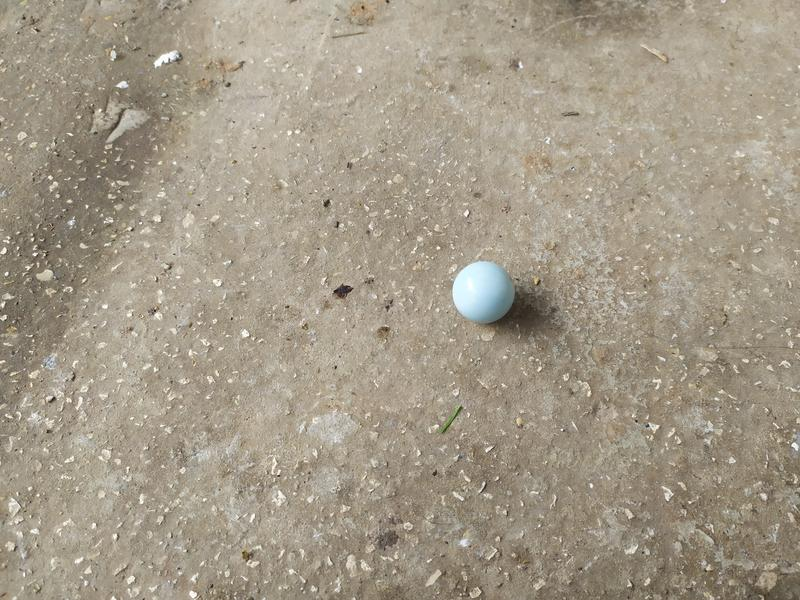Warning: (449, 258, 519, 327)
